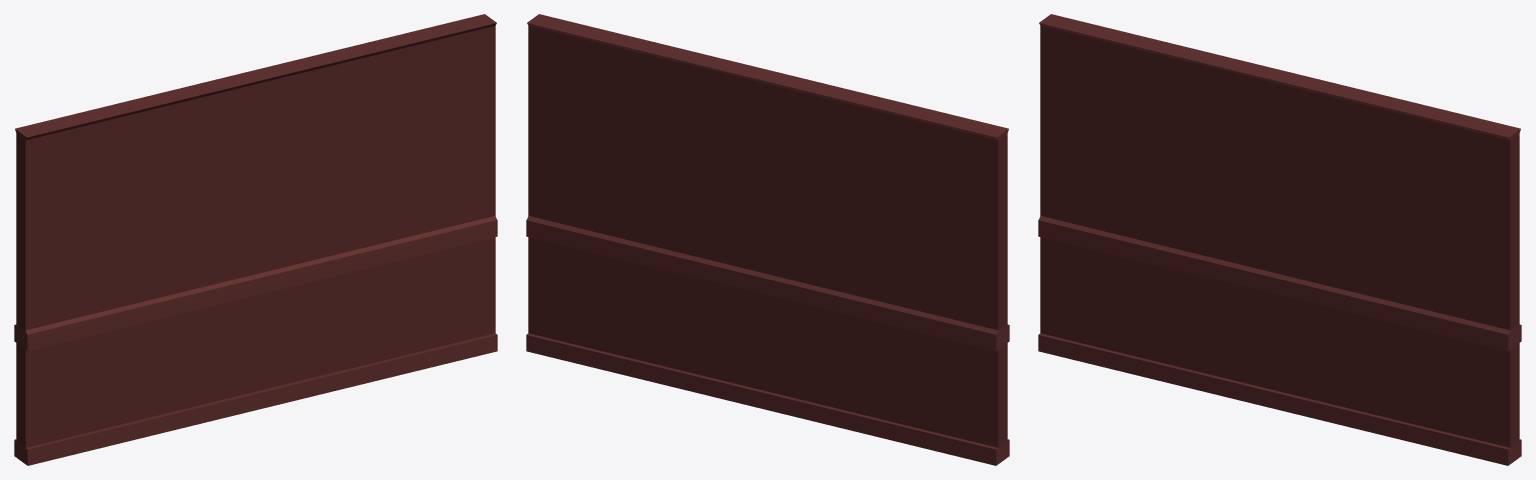
File: Wall_7_Red.fbx
3 renders of one model, left to right at view 1: azimuth 30°, elevation 25°; view 2: azimuth 150°, elevation 25°; view 3: azimuth 330°, elevation 25°, orthographic.
Visible parts, largest first — view 1: Wall_7_Red; view 2: Wall_7_Red; view 3: Wall_7_Red.
Boxes of the visible parts, x1,y1,x2,y2 form: Wall_7_Red: (14,14,497,465); Wall_7_Red: (526,14,1009,465); Wall_7_Red: (1038,14,1521,465).
Bounding box in the file's own units: 600 × 400 × 30.
